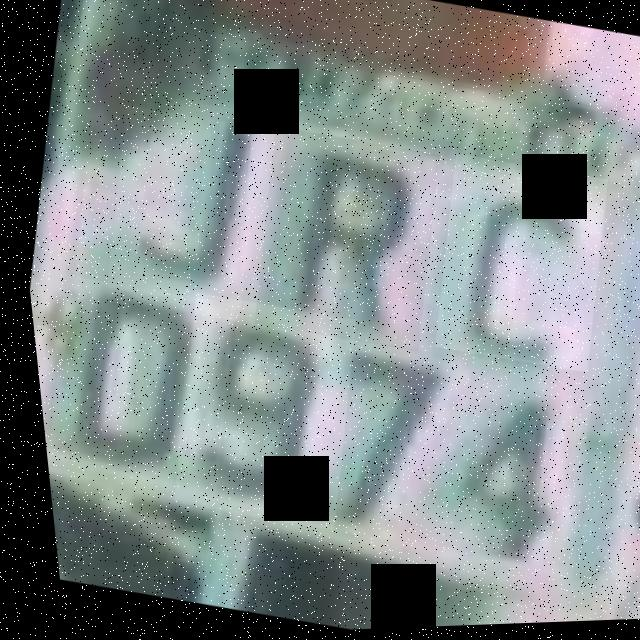0: (23, 270, 245, 519)
4: (406, 334, 606, 587)
7: (272, 317, 475, 548)
9: (145, 289, 366, 536)
C: (411, 152, 619, 381)
J: (83, 102, 272, 326)
R: (231, 124, 451, 360)
